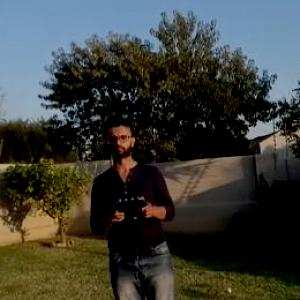follow: (85, 110, 186, 299)
